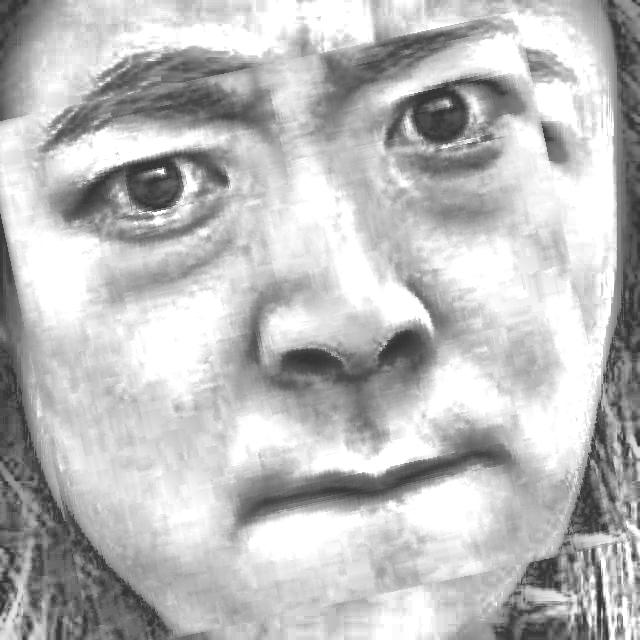angry: (7, 37, 605, 629)
